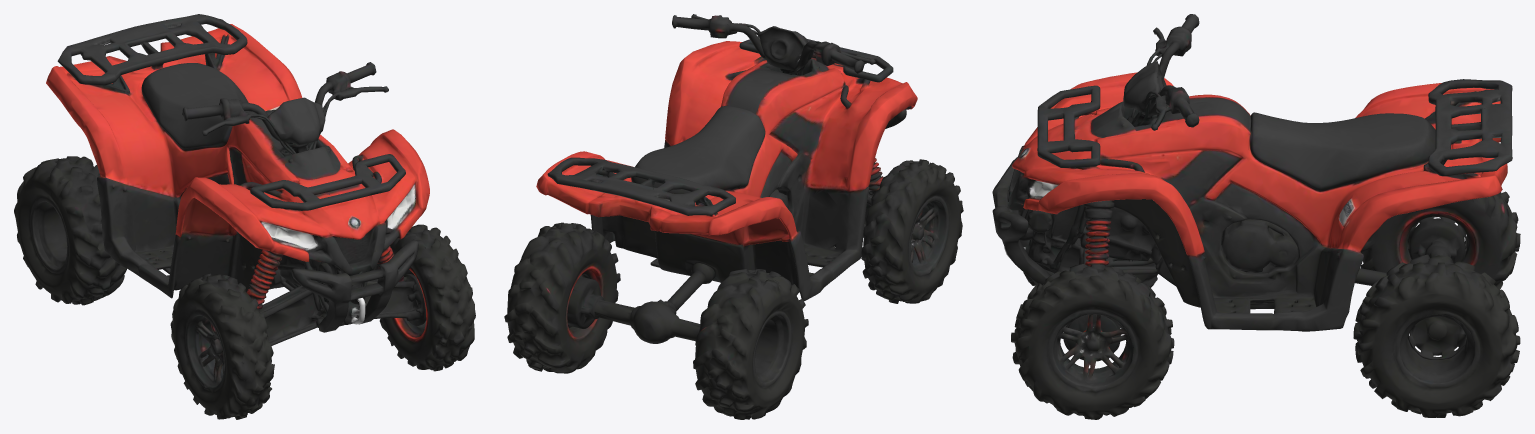
The model's file is 084_atv_quad_red.glb.
3 views of the same model, side by side, from view 1: azimuth 30°, elevation 25°; view 2: azimuth 150°, elevation 25°; view 3: azimuth 270°, elevation 25° (orthographic). The views are drawn at different scales.
Parts seen in each view (by area): view 1: geometry_0; view 2: geometry_0; view 3: geometry_0.
Boxes of the visible parts, x1,y1,x2,y2 form: geometry_0: (14,14,475,419); geometry_0: (504,14,963,419); geometry_0: (992,14,1520,419).
Bounding box in the file's own units: 1.17 × 1.27 × 2.
Materials: 1 (1 with a texture image).
